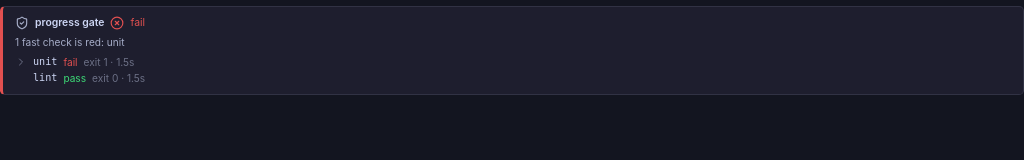
Test: GateCard › shows the gate, the outcome, the reason and each run; a tail opens on click
expect the element with test id "gate-card" shows "progress gate": met, box [0,6,1023,95]
expect the text with test id "gate-outcome" reads "fail": met, box [130,16,145,29]
Click the text "unit" at x=45, y=62, box [33,56,57,67]
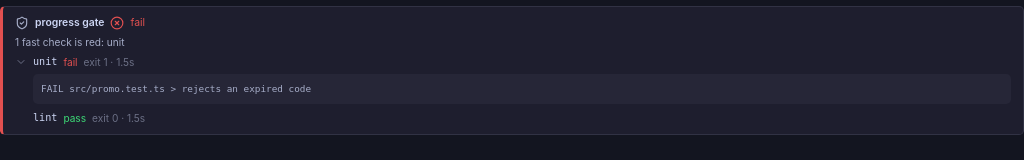
expect the text with test id "gate-run-tail" shows "rejects an expired code": met, box [41,83,311,94]
